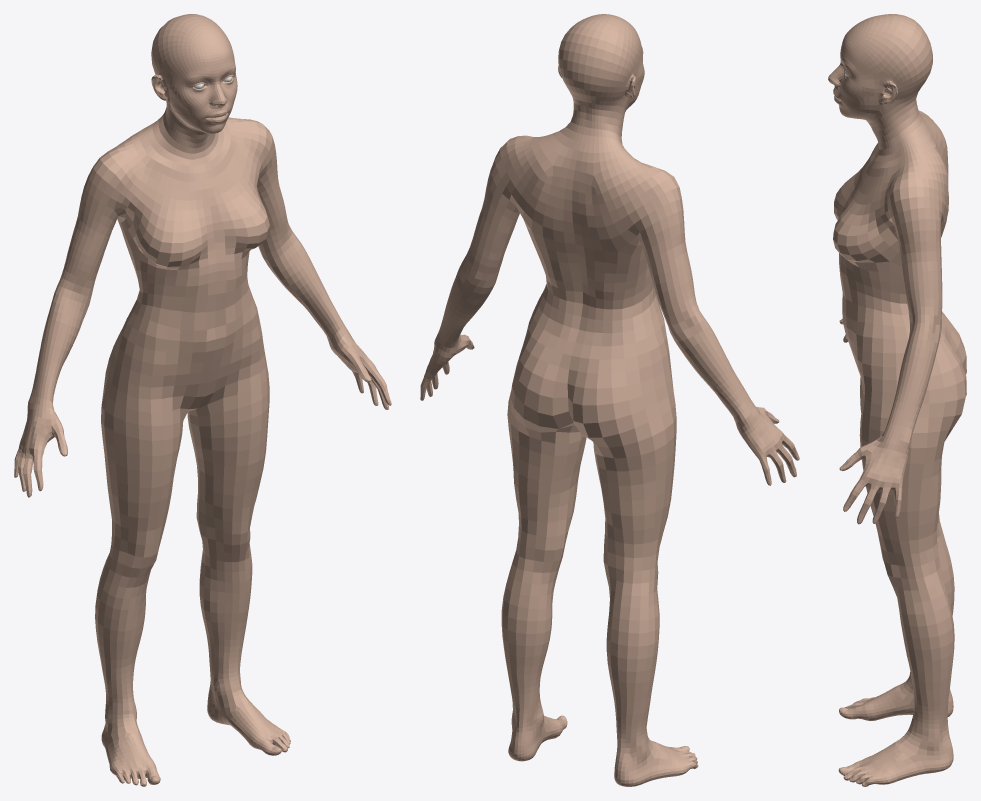
Rendered from realistic-body-female.glb.
The picture shows the model from 3 angles, left to right: view 1: azimuth 30°, elevation 25°; view 2: azimuth 150°, elevation 25°; view 3: azimuth 270°, elevation 25°; orthographic projection.
Parts seen in each view (by area): view 1: CC0_SOURCE_GEO-body_female_realistic; view 2: CC0_SOURCE_GEO-body_female_realistic; view 3: CC0_SOURCE_GEO-body_female_realistic.
Part boxes in pixels (left/top/right/bottom): CC0_SOURCE_GEO-body_female_realistic: left=14, top=14, right=391, bottom=786; CC0_SOURCE_GEO-body_female_realistic: left=420, top=14, right=799, bottom=786; CC0_SOURCE_GEO-body_female_realistic: left=828, top=14, right=966, bottom=786.
Bounding box in the file's own units: 0.8422 × 1.64 × 0.2826.
